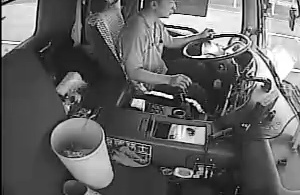paper: (152, 121, 207, 147)
